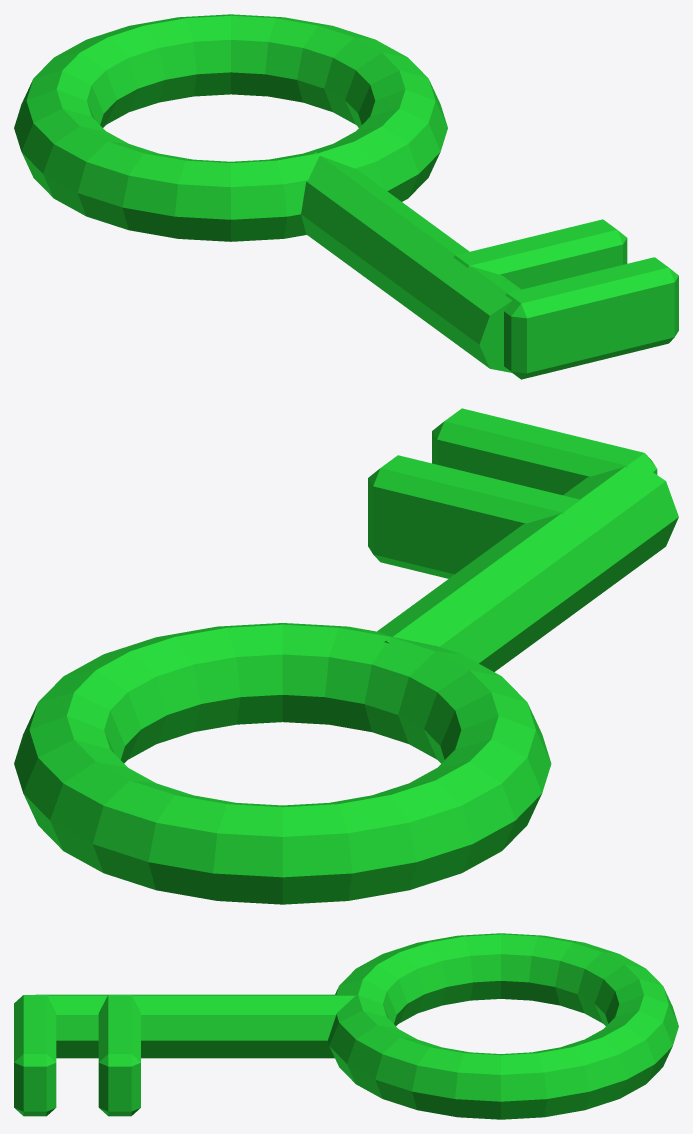
Rendered from key-green.glb.
3 renders of one model, top to bottom at view 1: azimuth 30°, elevation 25°; view 2: azimuth 150°, elevation 25°; view 3: azimuth 270°, elevation 25°, orthographic. The views are drawn at different scales.
Parts seen in each view (by area): view 1: key-green; view 2: key-green; view 3: key-green.
Boxes of the visible parts, <box> form: key-green: <box>14,14,678,379</box>; key-green: <box>14,408,678,904</box>; key-green: <box>14,933,678,1119</box>.
Size of the model in its own units: 0.336 by 0.066 by 0.628.
